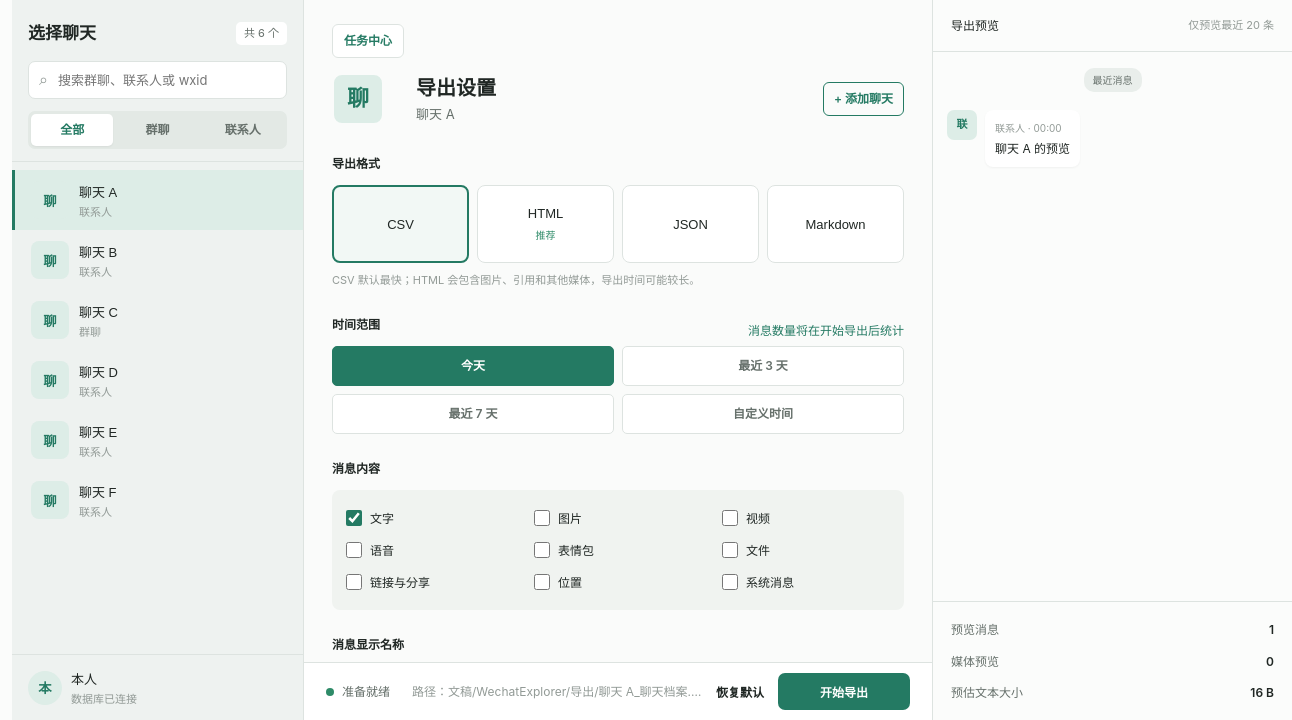
Scenario: ExportWorkspace multi-chat selection › defaults to one chat, forces HTML after adding another, merges the preview, and resets locally
Expected: the text "聊天 A" is shown 2 times, [79,182,117,201]; [416,106,455,122]
Expected: the button "CSV" is enabled, [332,185,469,263]
Click the button "+ 添加聊天": (863, 99) [823,82,904,116]
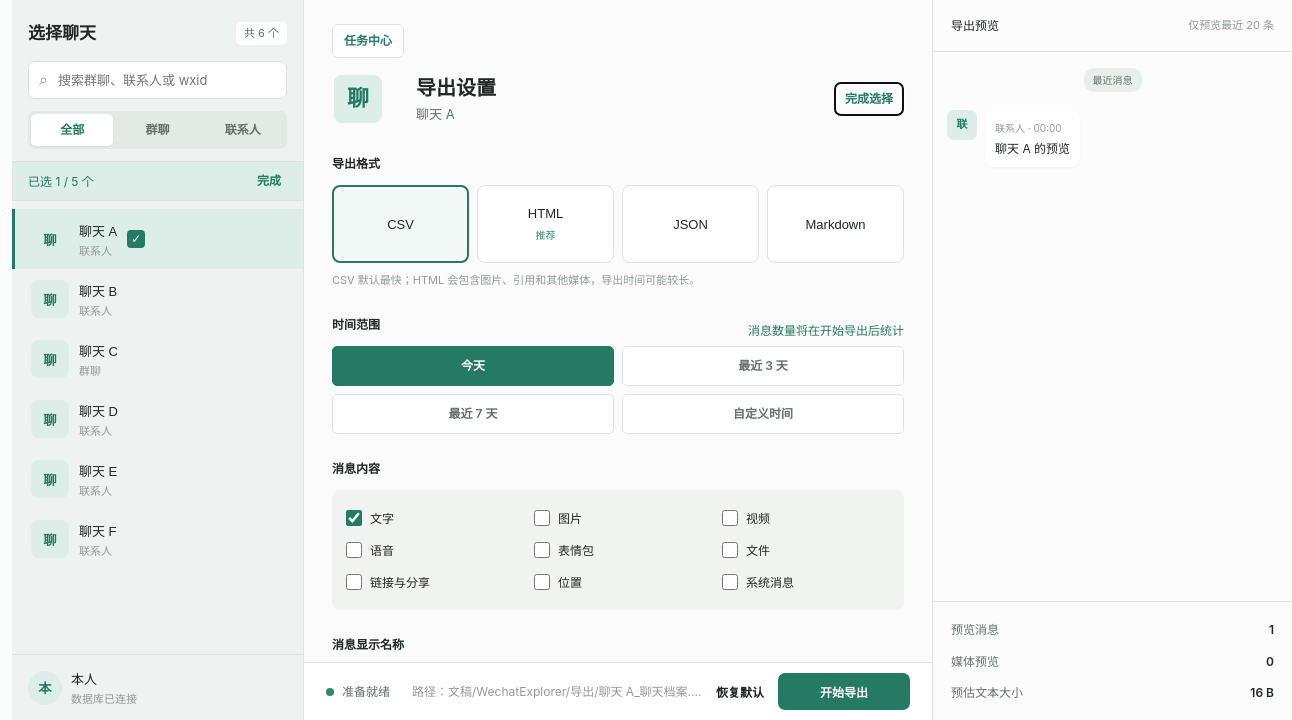
Click the button "聊 聊天 B 联系人": (50, 299) [12,269,303,329]
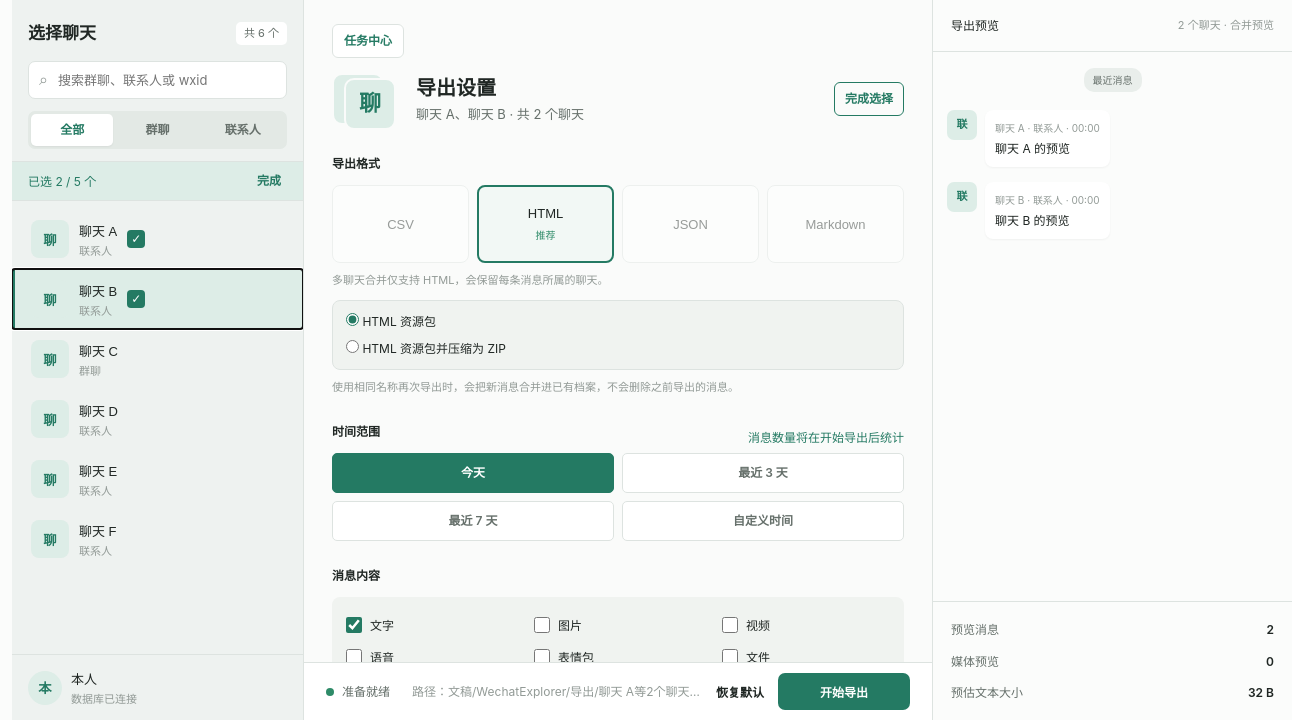
Expected: the text "已选 2 / 5 个" is shown, [28,172,96,191]
Expected: the button "CSV" is disabled, [332,185,469,263]
Expected: the button "JSON" is disabled, [622,185,759,263]
Click the button "开始导出": (844, 692) [778,673,910,710]
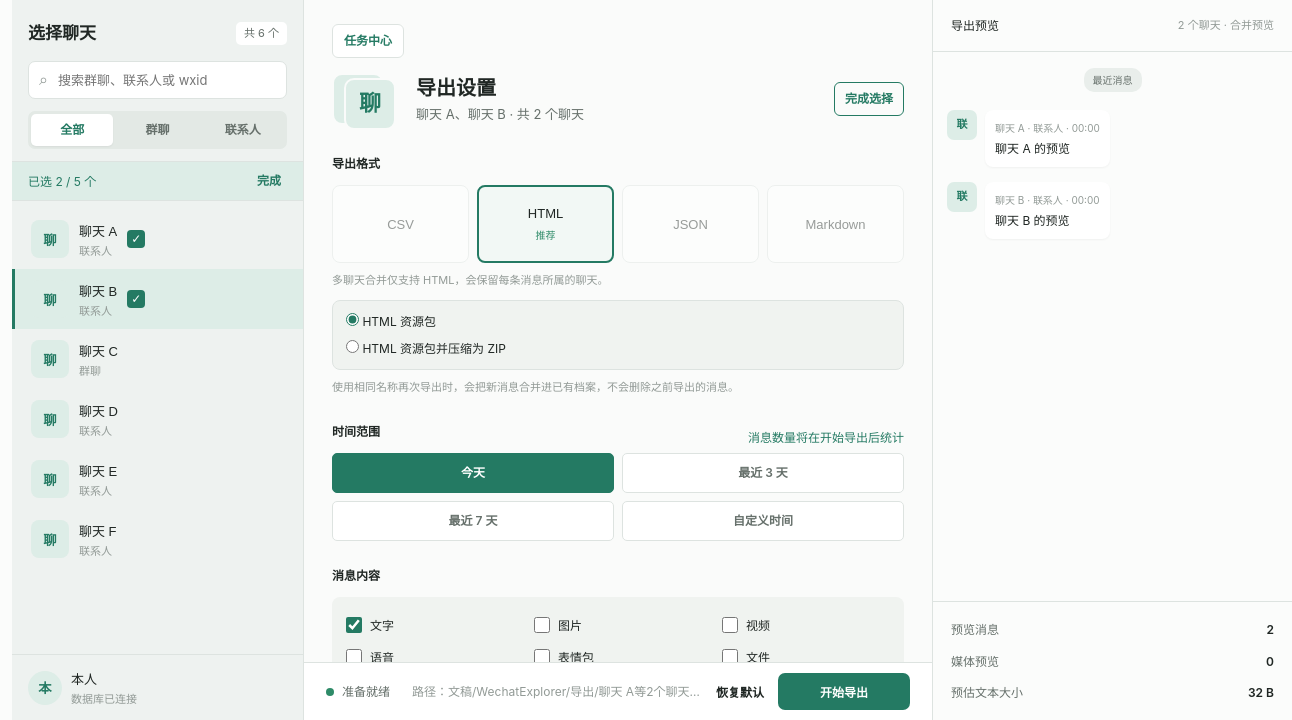
Click the button "恢复默认": (740, 692) [710,682,770,701]
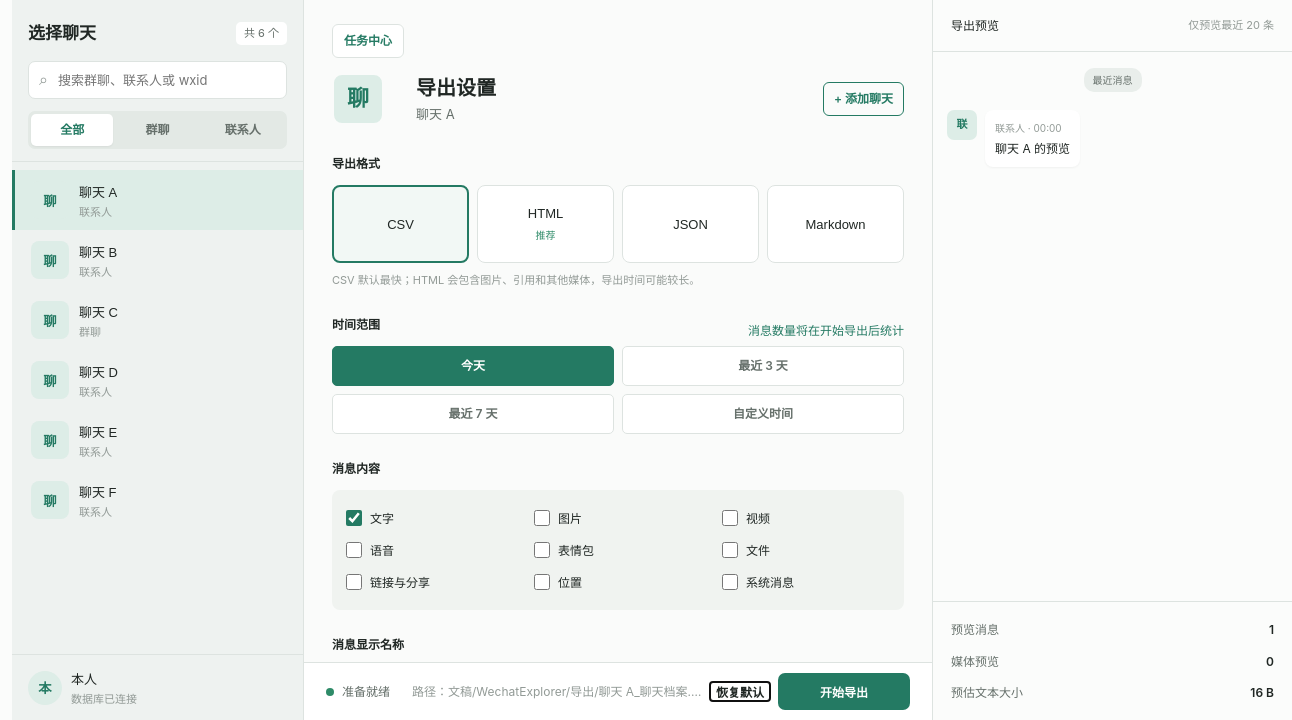
Expected: the text "已选 2 / 5 个" is gone
Expected: the button "CSV" is enabled, [332,185,469,263]
